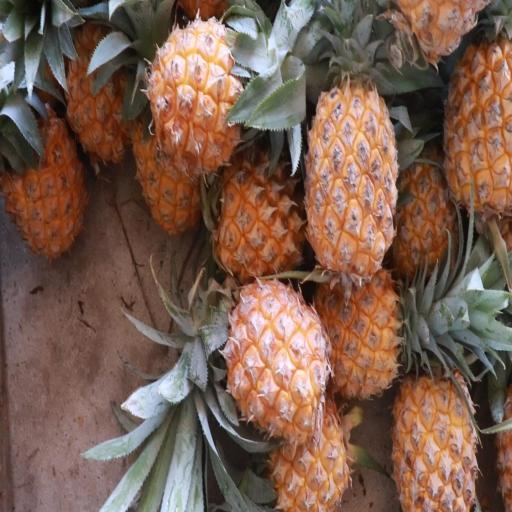Pineapple - v8 v1: (300, 52, 401, 294), (218, 269, 332, 452), (144, 11, 249, 184), (254, 339, 358, 512), (391, 324, 483, 512), (2, 85, 89, 267), (306, 255, 408, 409), (435, 5, 512, 203), (208, 139, 308, 285), (61, 17, 138, 169)
